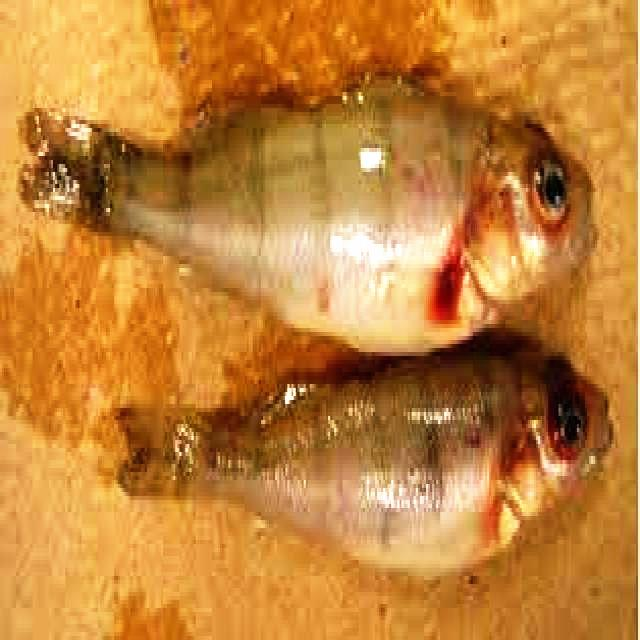Epizootic Ulcerative Syndrome -EUS-: (23, 75, 593, 353), (119, 337, 612, 573)
